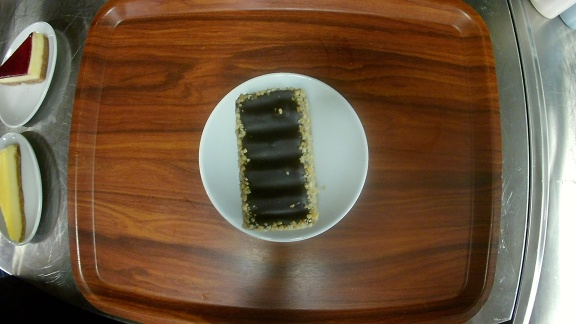muzlupasta: (197, 72, 369, 243)
